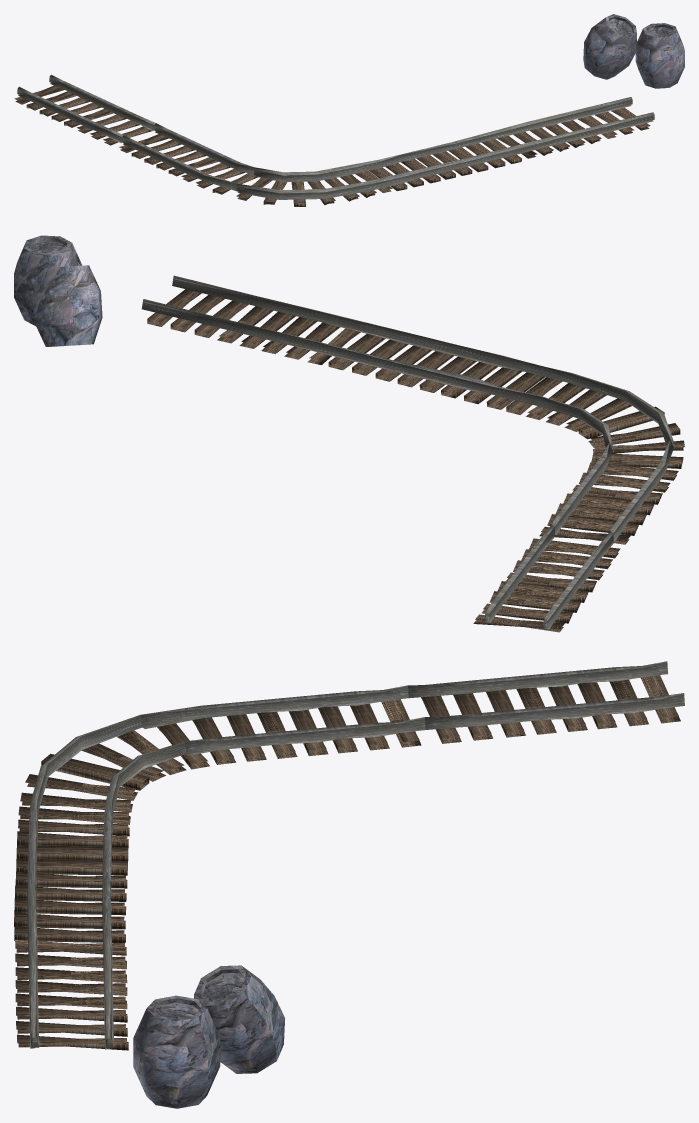
The model's file is mine3.fbx.
3 renders of one model, top to bottom at view 1: azimuth 30°, elevation 25°; view 2: azimuth 150°, elevation 25°; view 3: azimuth 270°, elevation 25°, orthographic. The views are drawn at different scales.
Parts seen in each view (by area): view 1: koleje3_metal, koleje3_wood, Barel3, Barel3.001; view 2: koleje3_wood, koleje3_metal, Barel3, Barel3.001; view 3: koleje3_wood, koleje3_metal, Barel3.001, Barel3.
Part boxes in pixels (box(x1,y1,x2,y2)): koleje3_metal: box(17, 74, 654, 199); koleje3_wood: box(14, 85, 650, 206); Barel3: box(583, 14, 637, 79); Barel3.001: box(635, 23, 684, 88); koleje3_wood: box(147, 289, 684, 632); koleje3_metal: box(141, 275, 674, 629); Barel3: box(32, 265, 102, 346); Barel3.001: box(14, 235, 82, 326); koleje3_wood: box(14, 675, 680, 1050); koleje3_metal: box(27, 661, 684, 1049); Barel3.001: box(133, 995, 220, 1108); Barel3: box(194, 965, 285, 1073).
Bounding box in the file's own units: 175 × 19.06 × 113.
3 materials, 3 textured.
